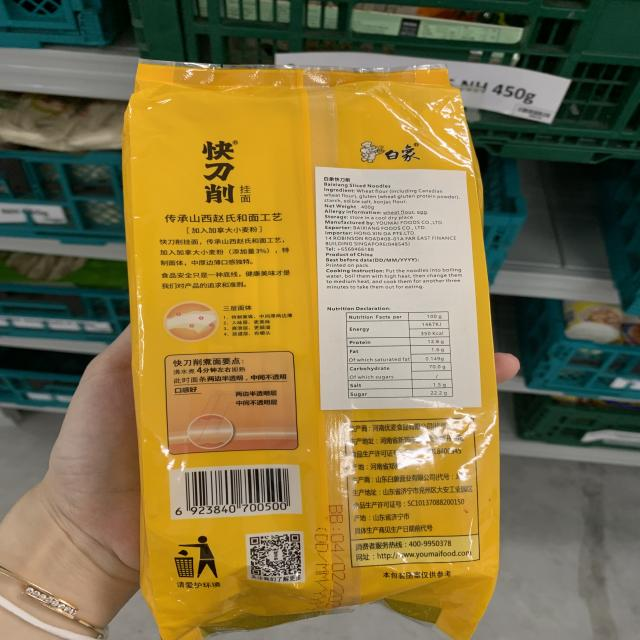object_name: (131, 76, 489, 614)
